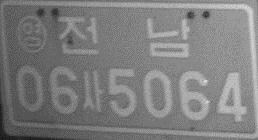0: (142, 67, 174, 120), (15, 63, 45, 113)
4: (216, 71, 247, 123)
5: (108, 67, 138, 118)
6: (177, 68, 211, 122), (48, 65, 79, 115)
사: (81, 68, 104, 113)
영: (15, 13, 48, 54)
전남_D: (56, 15, 191, 58)
